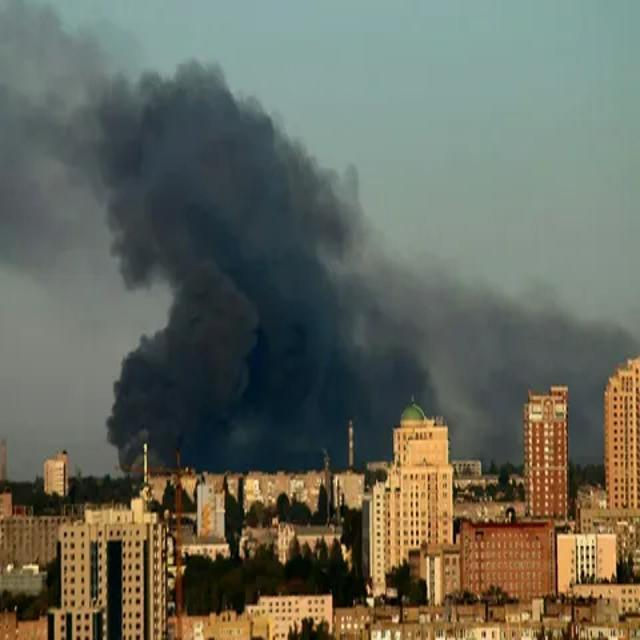Smoke: (94, 58, 457, 472)
